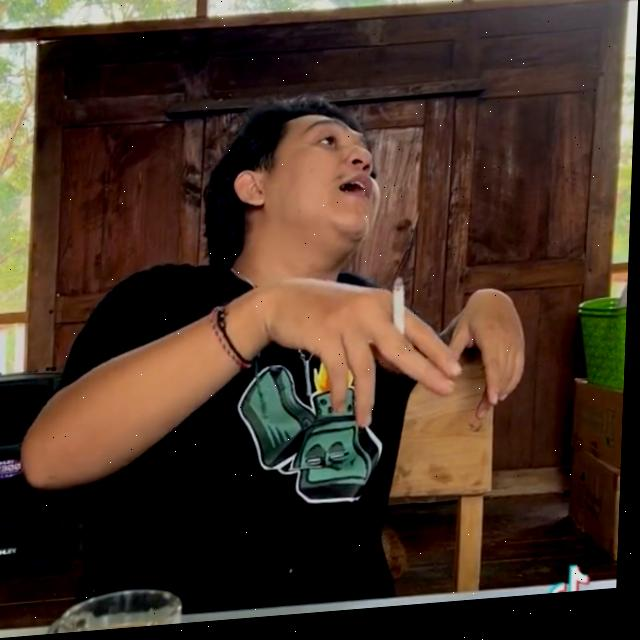cigarette: (393, 283, 409, 345)
